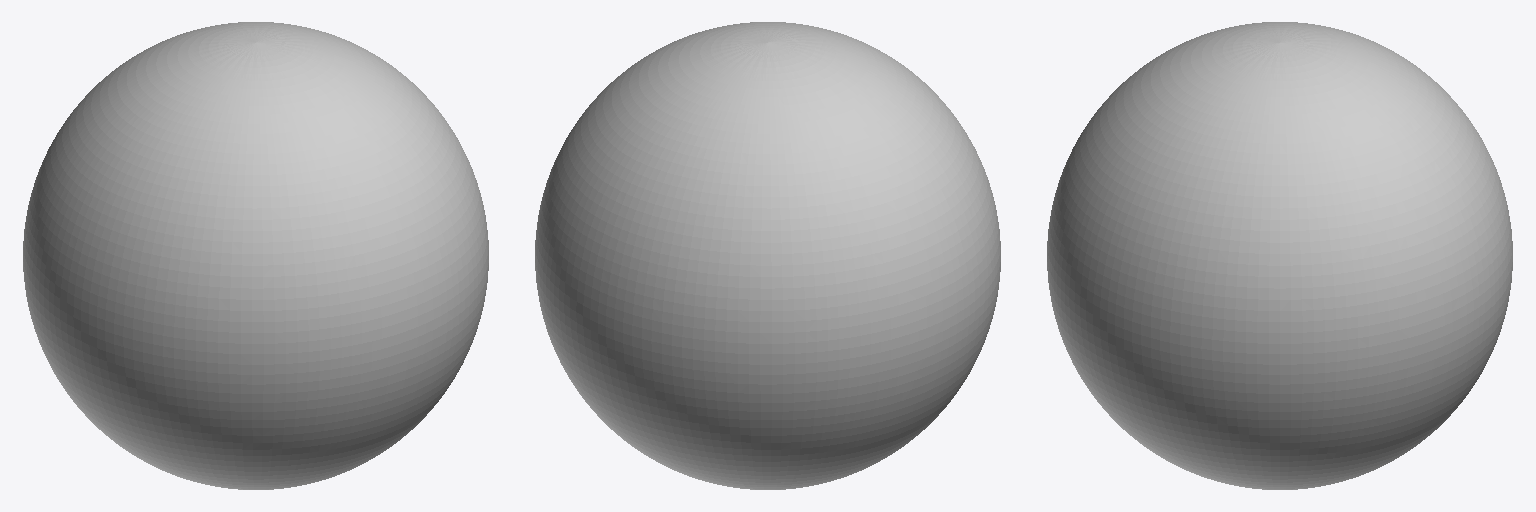
File: ball.obj
3 renders of one model, left to right at view 1: azimuth 30°, elevation 25°; view 2: azimuth 150°, elevation 25°; view 3: azimuth 270°, elevation 25°, orthographic.
Parts seen in each view (by area): view 1: Sphere; view 2: Sphere; view 3: Sphere.
Part boxes in pixels (x1,y1,x2,y2): Sphere: (23,22,488,489); Sphere: (535,22,1000,489); Sphere: (1047,22,1512,489).
Bounding box in the file's own units: 0.0549 × 0.0555 × 0.0549.